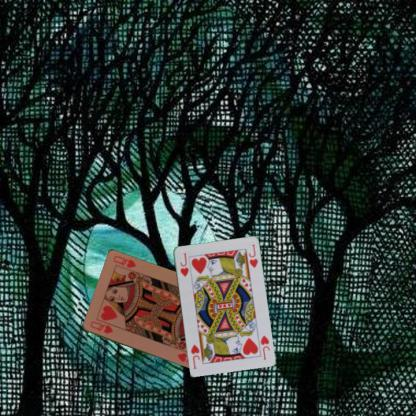Jh: (178, 250, 190, 278), (258, 333, 270, 360)
Qh: (88, 318, 115, 335)
